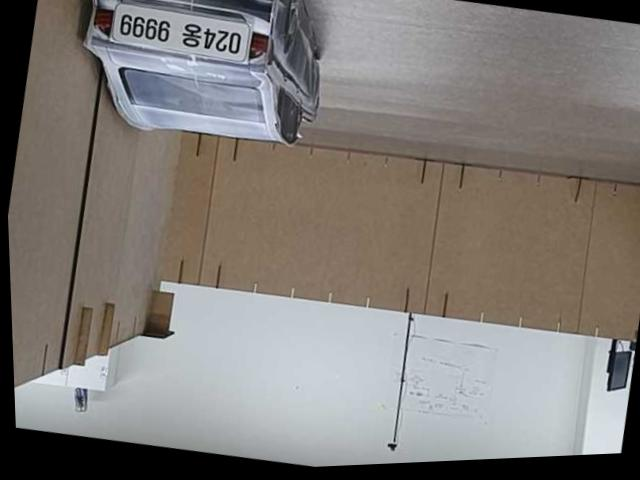car: (62, 0, 352, 170)
id: (102, 0, 258, 78)
